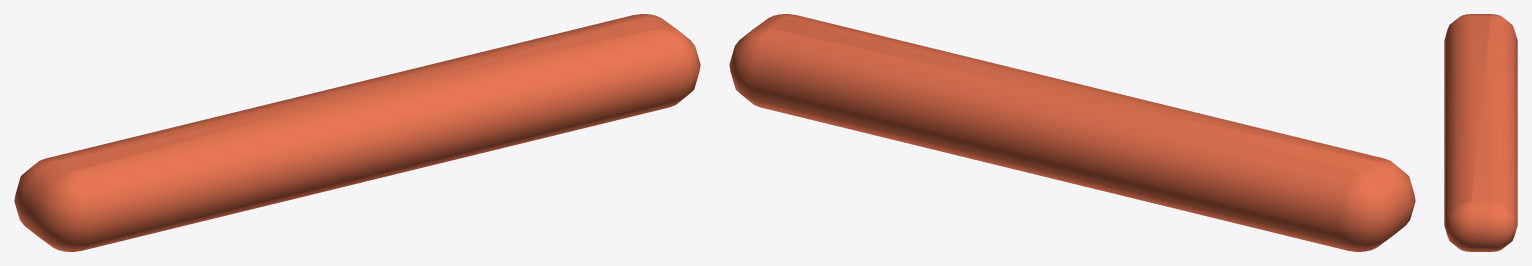
Rendered from grand-prix-circuit-and-open-wheel-sausage-kerb-98f93631__15202.glb.
3 renders of one model, left to right at view 1: azimuth 30°, elevation 25°; view 2: azimuth 150°, elevation 25°; view 3: azimuth 270°, elevation 25°, orthographic. The views are drawn at different scales.
Parts seen in each view (by area): view 1: sausage-kerb; view 2: sausage-kerb; view 3: sausage-kerb.
Boxes of the visible parts, x1=… form: sausage-kerb: x1=14, y1=14, x2=700, y2=251; sausage-kerb: x1=729, y1=14, x2=1415, y2=251; sausage-kerb: x1=1444, y1=14, x2=1517, y2=251.
Size of the model in its own units: 2 by 0.22 by 0.3001.
